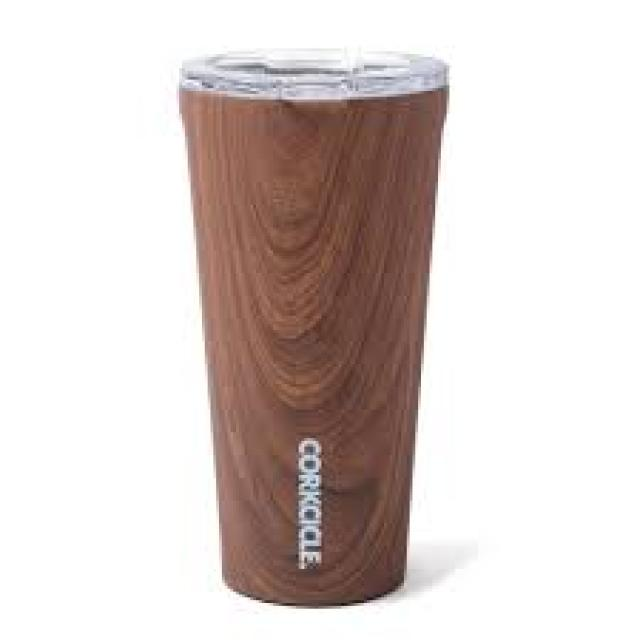bottle: (177, 46, 452, 609)
